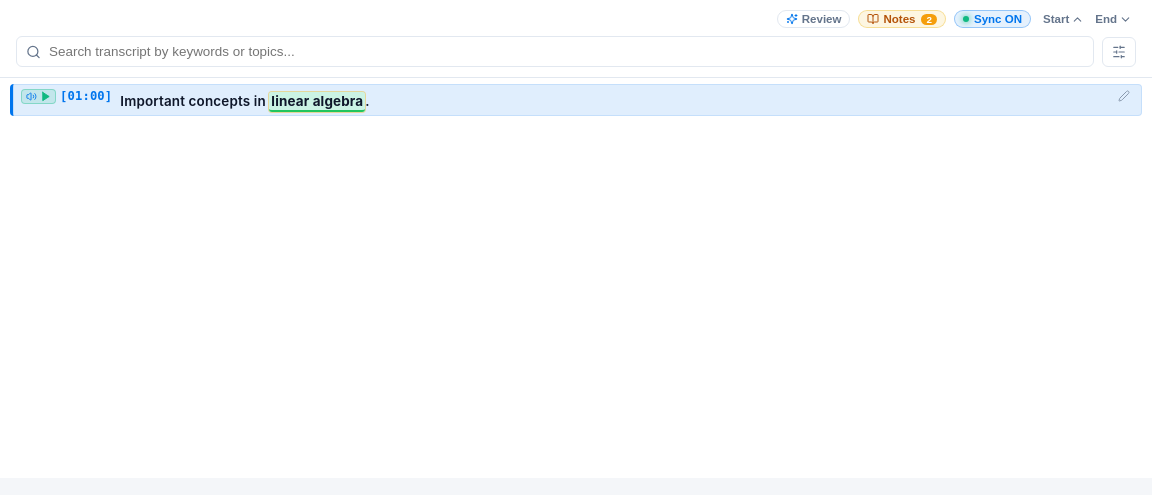
TranscriptSearch › renders visual highlights and comment badges on annotated transcript text
The image size is (1152, 495).
Note: Verify hovering on the mark shows the note preview tooltip
Hover over the text "linear algebra" at (317, 102), box [269,92,365,112]
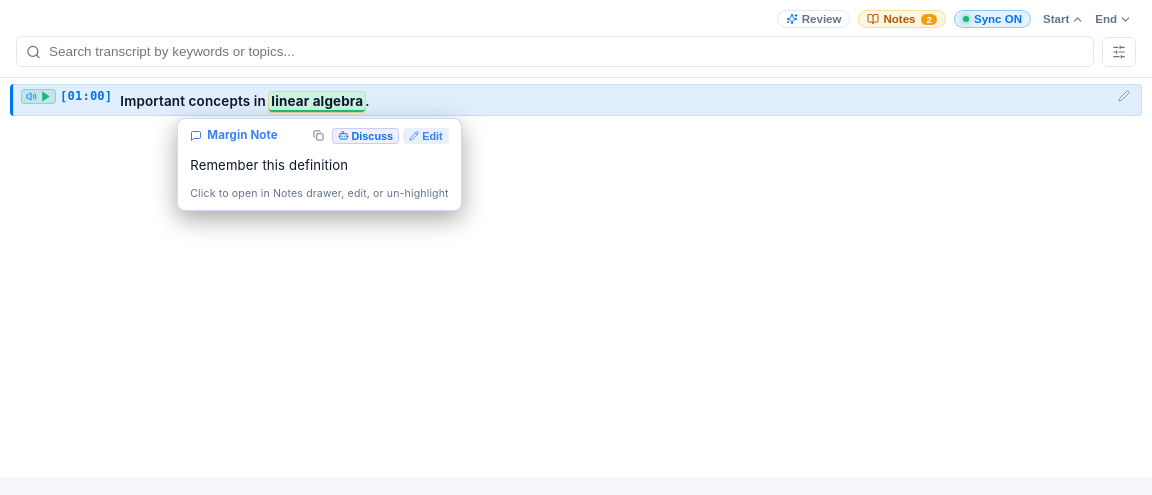
Expected: the element with test id "mark-hover-tooltip" shows "Remember this definition", [190,157,348,173]
